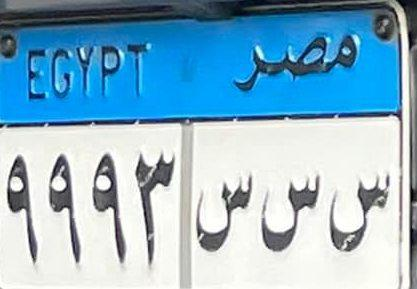3: (133, 140, 176, 266)
9: (84, 125, 131, 268), (0, 148, 47, 274), (46, 142, 84, 271)
س: (238, 168, 325, 268), (189, 154, 260, 261), (323, 169, 401, 264)
